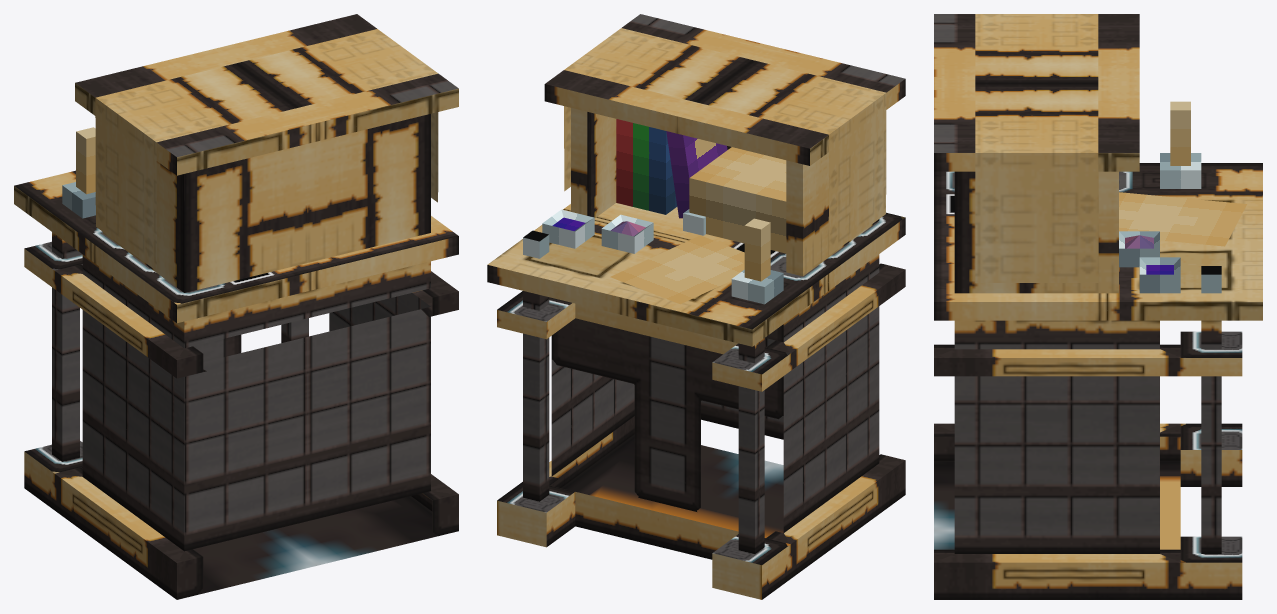
The model's file is station_inscription_inventory.obj.
The picture shows the model from 3 angles, left to right: view 1: azimuth 30°, elevation 25°; view 2: azimuth 150°, elevation 25°; view 3: azimuth 270°, elevation 25°; orthographic projection. The views are drawn at different scales.
Parts seen in each view (by area): view 1: DESK_SINGLE_MAIN.006, MAIN_MAIN.004; view 2: DESK_SINGLE_MAIN.006, MAIN_MAIN.004, VELLUM_VELLUM_STACK, ANIMATION_PARTS_MAIN.009; view 3: DESK_SINGLE_MAIN.006, MAIN_MAIN.004, ANIMATION_PARTS_MAIN.009.
Part boxes in pixels (left/top/right/bottom): DESK_SINGLE_MAIN.006: left=14, top=170, right=458, bottom=599; MAIN_MAIN.004: left=62, top=14, right=458, bottom=292; DESK_SINGLE_MAIN.006: left=487, top=203, right=905, bottom=599; MAIN_MAIN.004: left=542, top=14, right=905, bottom=304; VELLUM_VELLUM_STACK: left=689, top=147, right=786, bottom=253; ANIMATION_PARTS_MAIN.009: left=523, top=230, right=744, bottom=304; DESK_SINGLE_MAIN.006: left=934, top=163, right=1262, bottom=599; MAIN_MAIN.004: left=934, top=14, right=1201, bottom=293; ANIMATION_PARTS_MAIN.009: left=1119, top=192, right=1246, bottom=293.
Bounding box in the file's own units: 1 × 1.5 × 1.
